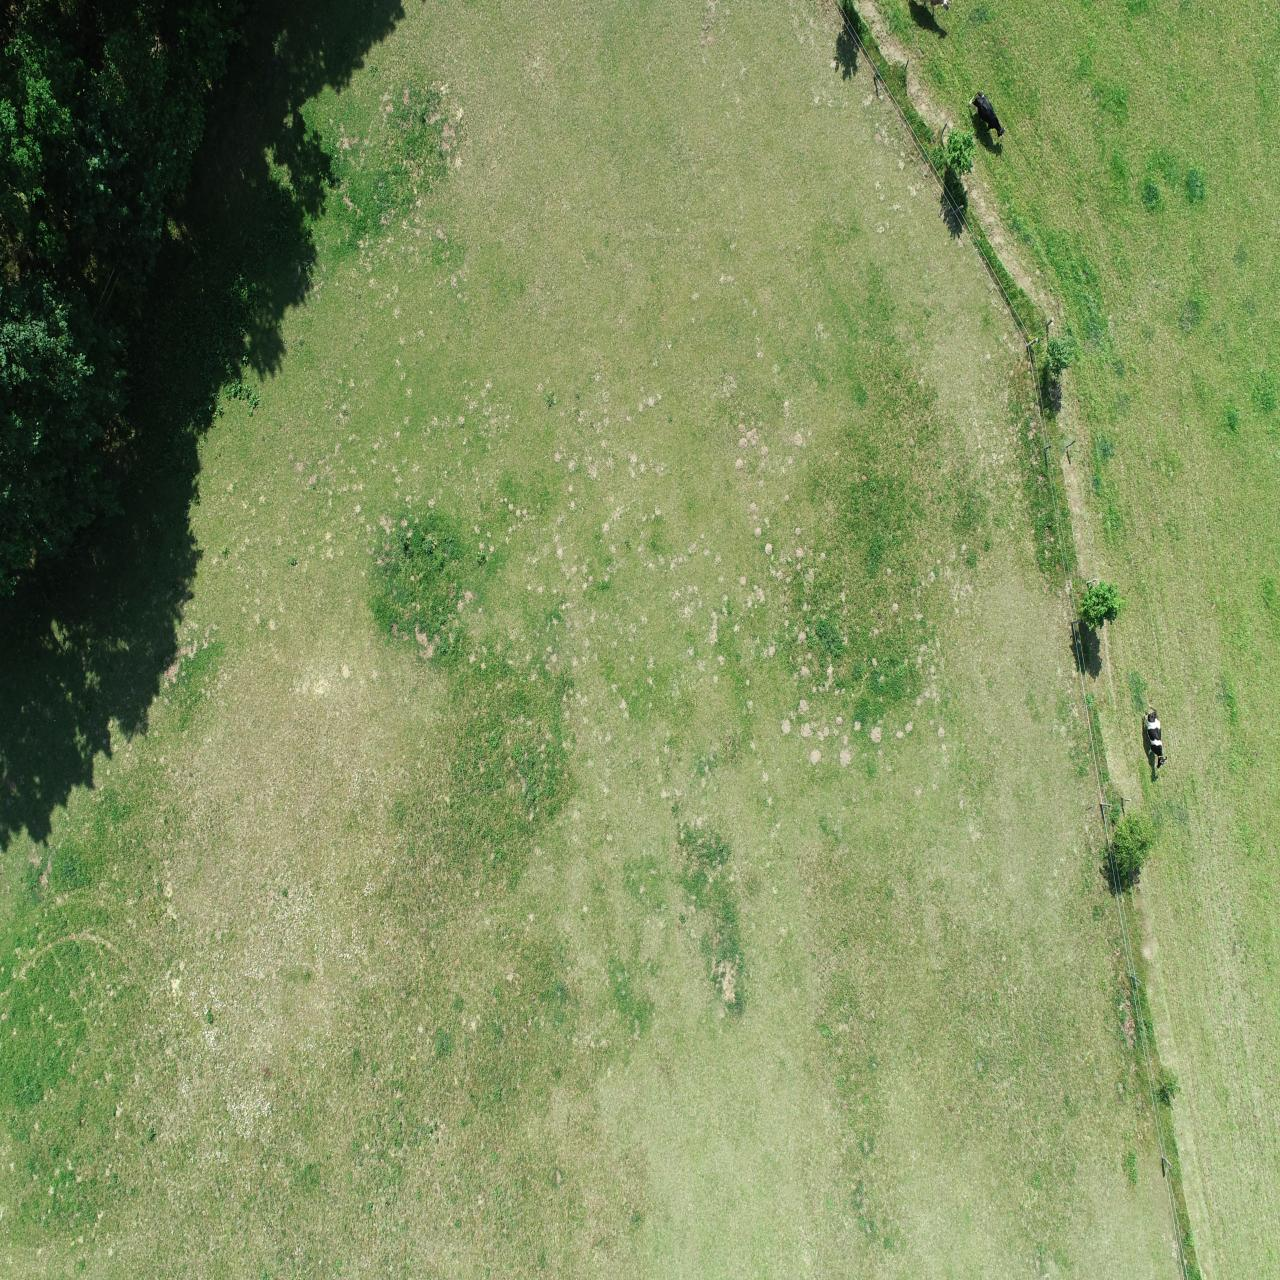cow: (966, 88, 1007, 148), (1139, 701, 1169, 772)
